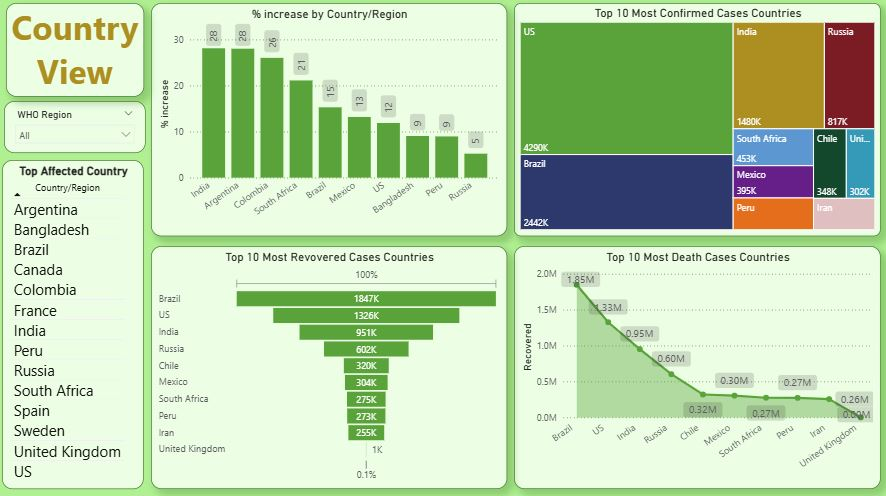

This screenshot's page, from the dashboard's own definition file:
{"tool":"powerbi","page":{"name":"Country View","canvas":[1280,720],"ordinal":3},"visuals":[{"type":"treemap","title":"Top 10 Most Confirmed Cases Countries","fields":{"Group":["country_wise_Covid19.Country/Region"],"Values":["Sum(country_wise_Covid19.Confirmed)"]},"box":[741.6,10.1,528.5,335.5],"z":0},{"type":"areaChart","title":"Top 10 Most Death Cases Countries","fields":{"Category":["country_wise_Covid19.Country/Region"],"Y":["Sum(country_wise_Covid19.Recovered)"]},"box":[741.6,360,528.5,349.9],"z":1000},{"type":"funnel","title":"Top 10 Most Revovered Cases Countries","fields":{"Category":["country_wise_Covid19.Country/Region"],"Y":["Sum(country_wise_Covid19.Recovered)"]},"box":[218.9,360,512.6,349.9],"z":2000},{"type":"columnChart","fields":{"Category":["country_wise_Covid19.Country/Region"],"Y":["Sum(country_wise_Covid19.1 week % increase)"]},"box":[218.9,10.1,512.6,335.5],"z":3000},{"type":"tableEx","title":"Top Affected Country","fields":{"Values":["country_wise_Covid19.Country/Region"]},"box":[4.3,236.2,204.5,473.8],"z":4000},{"type":"slicer","fields":{"Values":["country_wise_Covid19.WHO Region"]},"box":[7.2,151.2,204.5,74.9],"z":5000},{"type":"textbox","box":[10.1,10.1,198.7,135.4],"z":6000},{"type":"shape","box":[11.5,7.2,197.3,138.2],"z":6001}]}

Visuals, with their boxes in screenshot pixels (x1, y1, x2, y2), scaled from the page's 1280x720 canvas onto the 886x496 screenshot:
"Top 10 Most Confirmed Cases Countries" treemap: x1=513 y1=7 x2=879 y2=238
"Top 10 Most Death Cases Countries" areaChart: x1=513 y1=248 x2=879 y2=489
"Top 10 Most Revovered Cases Countries" funnel: x1=152 y1=248 x2=506 y2=489
columnChart - country_wise_Covid19.Country/Region x Sum(country_wise_Covid19.1 week % increase): x1=152 y1=7 x2=506 y2=238
"Top Affected Country" tableEx: x1=3 y1=163 x2=145 y2=489
slicer - country_wise_Covid19.WHO Region: x1=5 y1=104 x2=147 y2=156
textbox: x1=7 y1=7 x2=145 y2=100
shape: x1=8 y1=5 x2=145 y2=100
